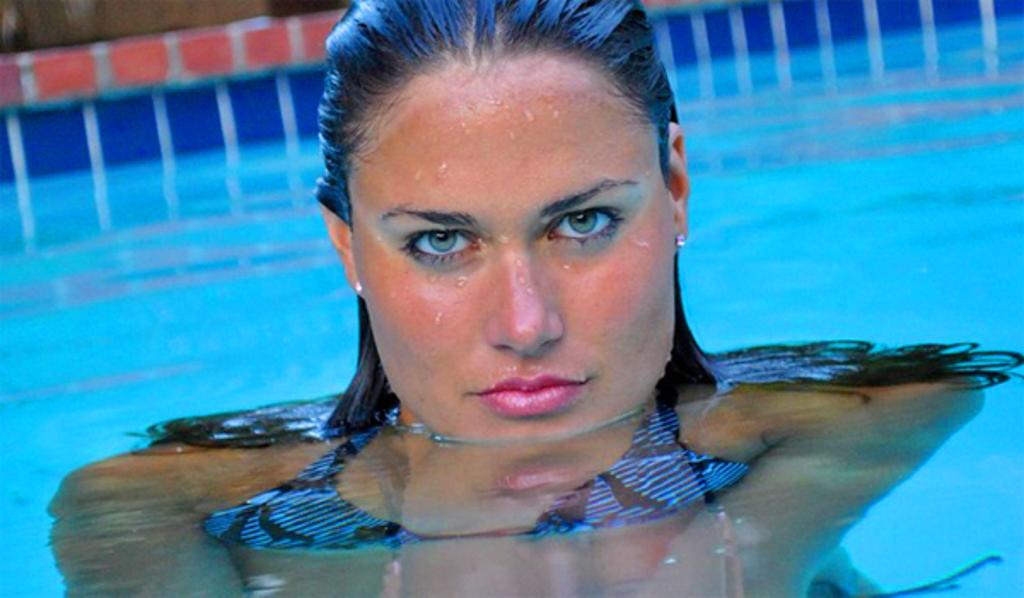face: (354, 104, 674, 462)
